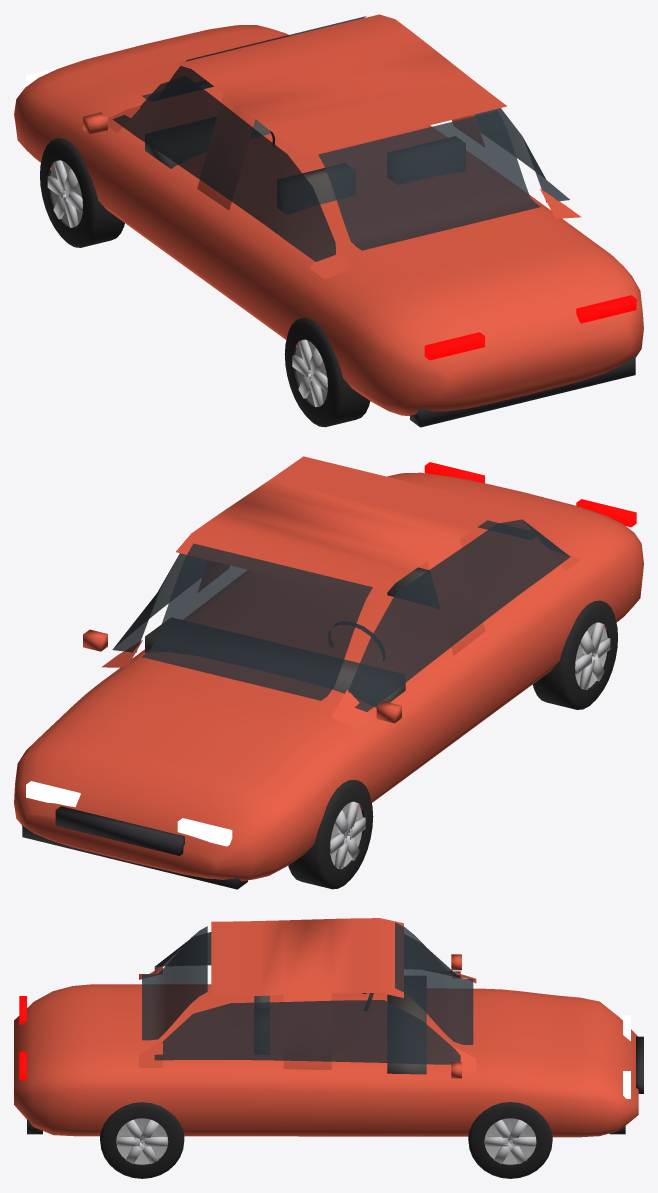
Rendered from car02_meridian.glb.
The picture shows the model from 3 angles, top to bottom: view 1: azimuth 30°, elevation 25°; view 2: azimuth 150°, elevation 25°; view 3: azimuth 270°, elevation 25°; orthographic projection. The views are drawn at different scales.
Parts seen in each view (by area): view 1: car02_meridian_Body, car02_meridian_Cabin, car02_meridian_GlassRear, car02_meridian_Glass, car02_meridian_Interior, car02_meridian_Wheel_RL, car02_meridian_Wheel_FL, car02_meridian_Lights_Rear, car02_meridian_GlassFront; view 2: car02_meridian_Body, car02_meridian_Cabin, car02_meridian_GlassFront, car02_meridian_Glass, car02_meridian_Interior, car02_meridian_Wheel_RL, car02_meridian_Wheel_FL, car02_meridian_Lights_Front, car02_meridian_Lights_Rear; view 3: car02_meridian_Body, car02_meridian_Cabin, car02_meridian_Glass, car02_meridian_GlassFront, car02_meridian_Wheel_FR, car02_meridian_Wheel_RR, car02_meridian_GlassRear, car02_meridian_Interior, car02_meridian_Lights_Rear, car02_meridian_Lights_Front.
Boxes of the visible parts, bbox=[...] form: car02_meridian_Body: bbox=[14, 25, 643, 427]; car02_meridian_Cabin: bbox=[108, 14, 581, 279]; car02_meridian_GlassRear: bbox=[318, 111, 540, 250]; car02_meridian_Glass: bbox=[112, 75, 569, 261]; car02_meridian_Interior: bbox=[145, 117, 465, 214]; car02_meridian_Wheel_RL: bbox=[284, 318, 370, 427]; car02_meridian_Wheel_FL: bbox=[40, 138, 124, 247]; car02_meridian_Lights_Rear: bbox=[424, 295, 636, 360]; car02_meridian_GlassFront: bbox=[142, 16, 366, 100]; car02_meridian_Body: bbox=[14, 472, 643, 889]; car02_meridian_Cabin: bbox=[101, 456, 581, 729]; car02_meridian_GlassFront: bbox=[142, 543, 372, 700]; car02_meridian_Glass: bbox=[112, 519, 570, 711]; car02_meridian_Interior: bbox=[145, 567, 439, 707]; car02_meridian_Wheel_RL: bbox=[533, 600, 617, 709]; car02_meridian_Wheel_FL: bbox=[288, 780, 373, 889]; car02_meridian_Lights_Front: bbox=[26, 781, 232, 846]; car02_meridian_Lights_Rear: bbox=[424, 462, 636, 527]; car02_meridian_Body: bbox=[14, 954, 643, 1137]; car02_meridian_Cabin: bbox=[139, 918, 476, 1072]; car02_meridian_Glass: bbox=[154, 932, 460, 1064]; car02_meridian_GlassFront: bbox=[395, 922, 473, 1044]; car02_meridian_Wheel_FR: bbox=[468, 1102, 552, 1178]; car02_meridian_Wheel_RR: bbox=[100, 1102, 184, 1178]; car02_meridian_GlassRear: bbox=[142, 926, 207, 1040]; car02_meridian_Interior: bbox=[254, 976, 426, 1074]; car02_meridian_Lights_Rear: bbox=[19, 996, 26, 1080]; car02_meridian_Lights_Front: bbox=[623, 1015, 630, 1098].
Size of what is drawn, in the model's own units: 2.06 by 1.45 by 4.79.
